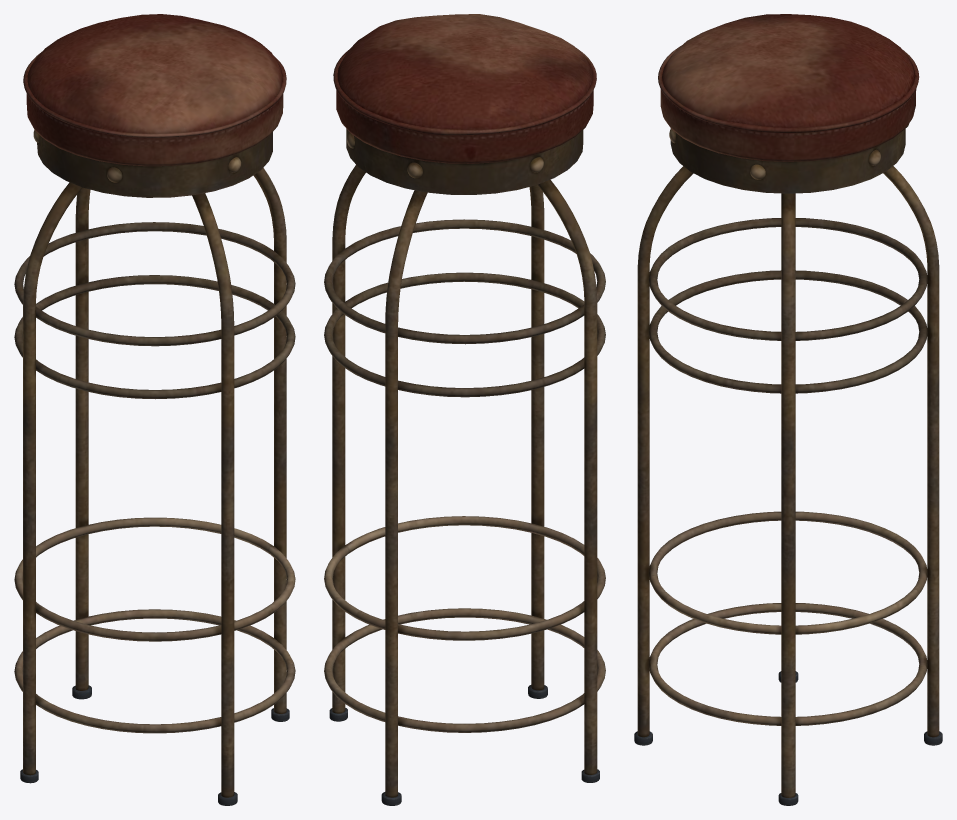
The model's file is metal_stool_01.glb.
3 views of the same model, side by side, from view 1: azimuth 30°, elevation 25°; view 2: azimuth 150°, elevation 25°; view 3: azimuth 270°, elevation 25° (orthographic).
Parts seen in each view (by area): view 1: metal_stool_01; view 2: metal_stool_01; view 3: metal_stool_01.
Boxes of the visible parts, left/top/right/bottom form: metal_stool_01: left=14, top=14, right=295, bottom=805; metal_stool_01: left=324, top=14, right=605, bottom=805; metal_stool_01: left=634, top=14, right=942, bottom=805.
Size of the model in its own units: 0.352 by 0.8828 by 0.3546.
Materials: 1 (1 with a texture image).
